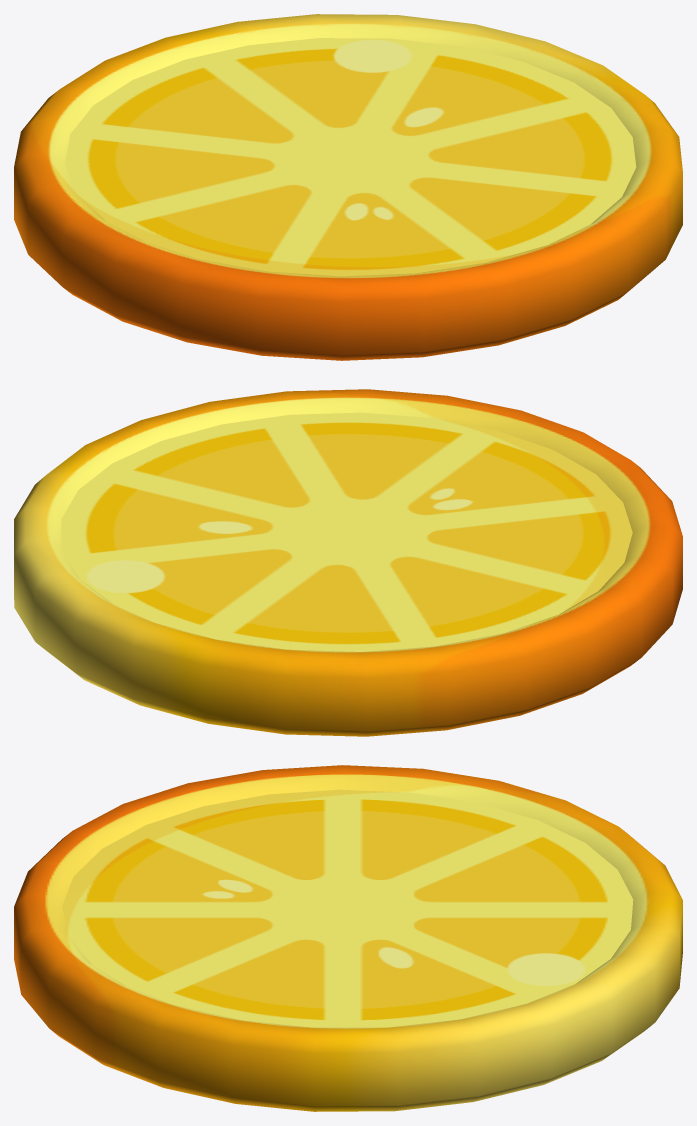
The model's file is Lemon_01.fbx.
The picture shows the model from 3 angles, top to bottom: view 1: azimuth 30°, elevation 25°; view 2: azimuth 150°, elevation 25°; view 3: azimuth 270°, elevation 25°; orthographic projection.
Parts seen in each view (by area): view 1: Lemon_01; view 2: Lemon_01; view 3: Lemon_01.
Boxes of the visible parts, x1,y1,x2,y2 form: Lemon_01: [14, 14, 682, 360]; Lemon_01: [14, 389, 682, 736]; Lemon_01: [14, 765, 682, 1111].
Size of the model in its own units: 155 by 18.97 by 155.
